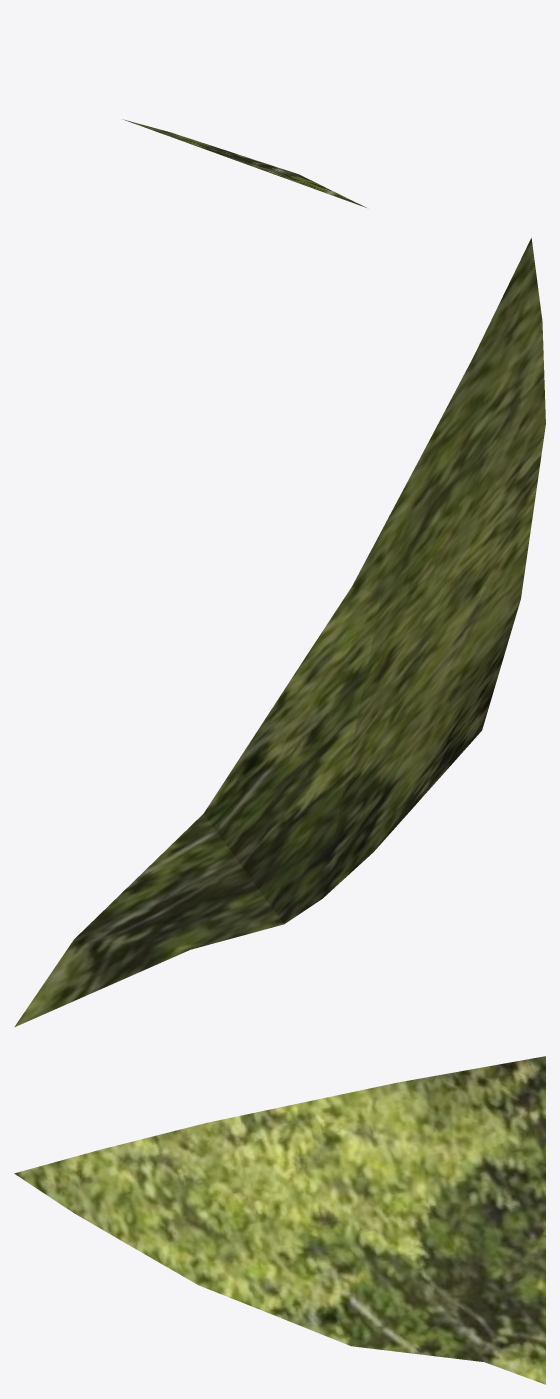
The picture shows the model from 3 angles, top to bottom: view 1: azimuth 30°, elevation 25°; view 2: azimuth 150°, elevation 25°; view 3: azimuth 270°, elevation 25°; orthographic projection. The views are drawn at different scales.
Bounding box in the file's own units: 1.4 × 1.18 × 2.68.
1 material, 1 textured.
